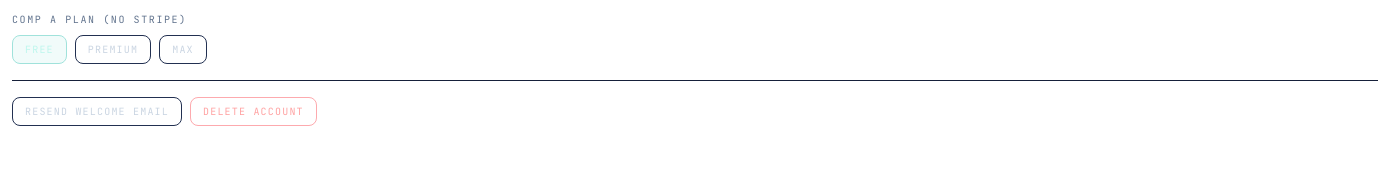
Scenario: UserActions welcome email › resends and reports success
This screenshot has width=1378, height=177.
Click the button "Resend welcome email" at (97, 112), box [12,97,182,126]
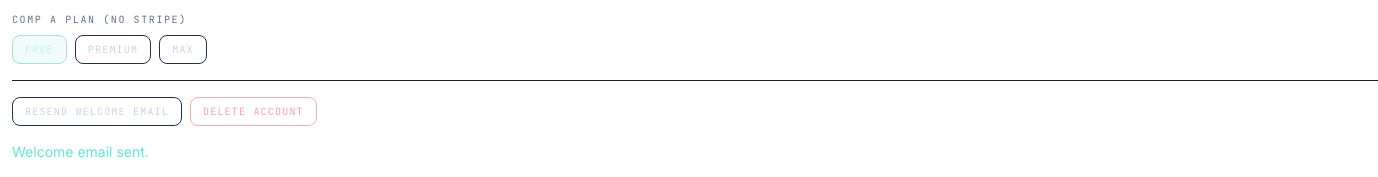
Check: the text "Welcome email sent." is shown, box [12,143,149,160]
